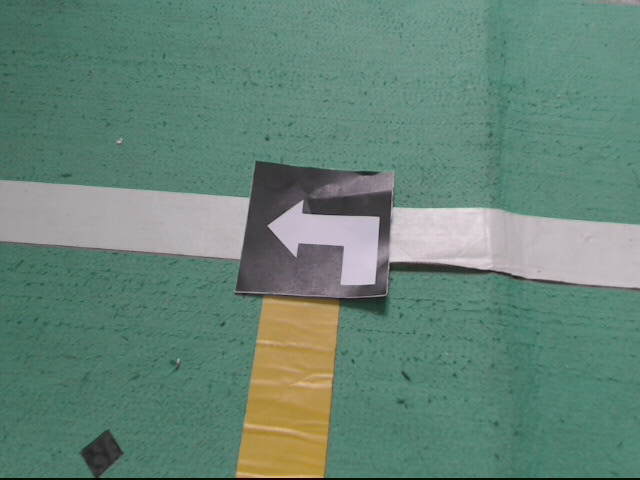left: (234, 156, 395, 306)
